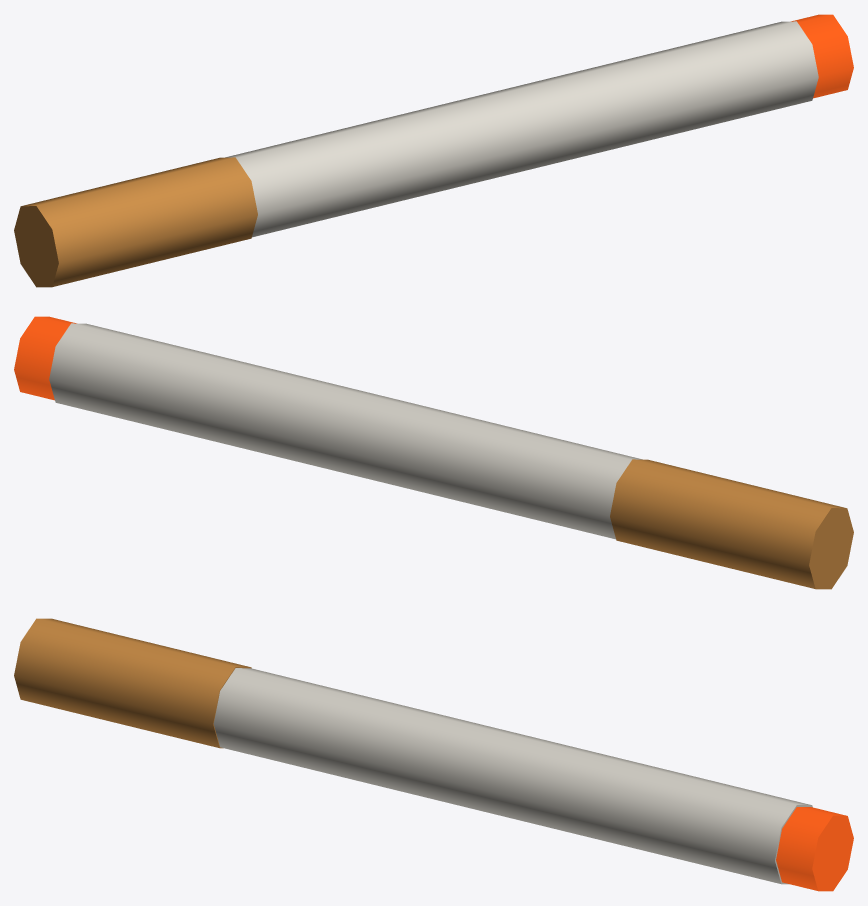
Rendered from prop_cig.glb.
3 views of the same model, one above another, from view 1: azimuth 30°, elevation 25°; view 2: azimuth 150°, elevation 25°; view 3: azimuth 330°, elevation 25° (orthographic).
Visible parts, largest first — view 1: prop_cig; view 2: prop_cig; view 3: prop_cig.
Boxes of the visible parts, x1,y1,x2,y2 form: prop_cig: (14,14,853,287); prop_cig: (14,316,853,589); prop_cig: (14,618,853,891).
Bounding box in the file's own units: 0.088 × 0.0086 × 0.0086.
